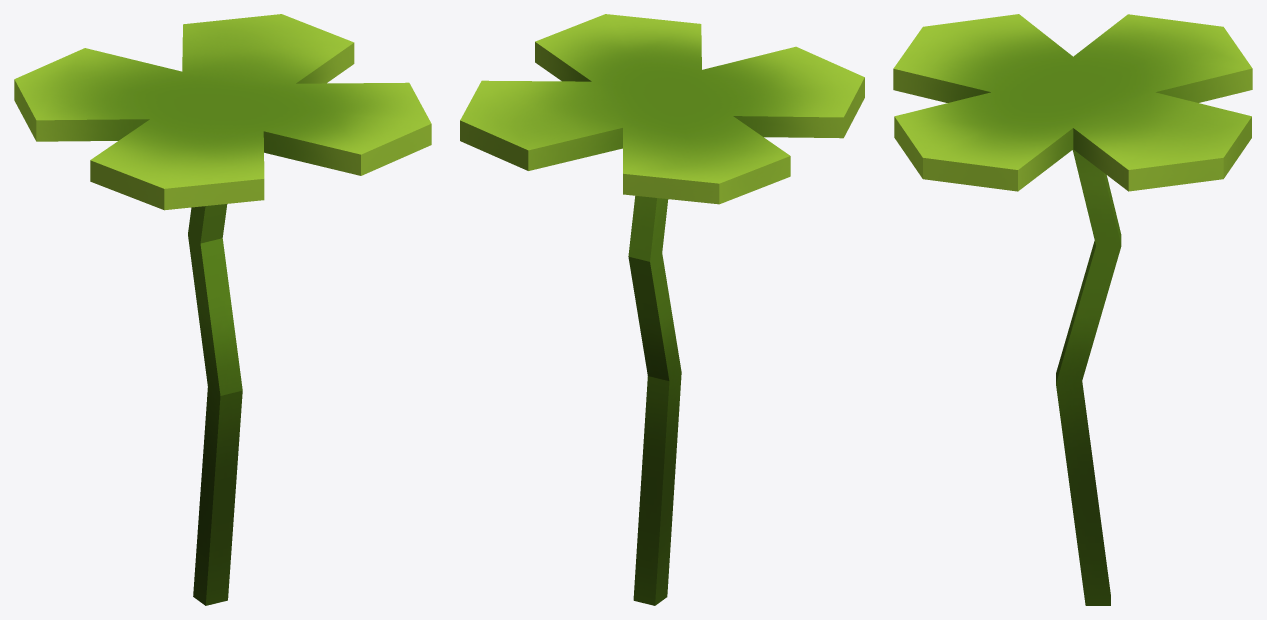
3 views of the same model, side by side, from view 1: azimuth 30°, elevation 25°; view 2: azimuth 150°, elevation 25°; view 3: azimuth 270°, elevation 25° (orthographic). The views are drawn at different scales.
Parts seen in each view (by area): view 1: co_4_la:Group4; view 2: co_4_la:Group4; view 3: co_4_la:Group4.
Boxes of the visible parts, box(x1,y1,x2,y2) form: co_4_la:Group4: box(14, 14, 431, 605); co_4_la:Group4: box(460, 14, 864, 605); co_4_la:Group4: box(893, 14, 1252, 605).
Bounding box in the file's own units: 7.08 × 10.75 × 6.88.
